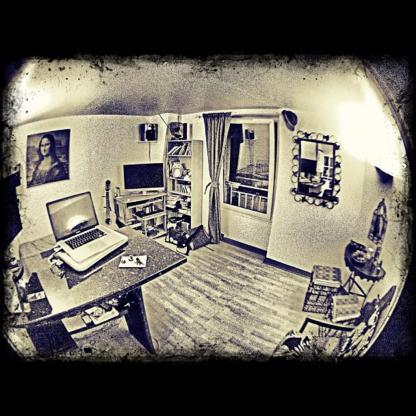board: (46, 188, 122, 262)
